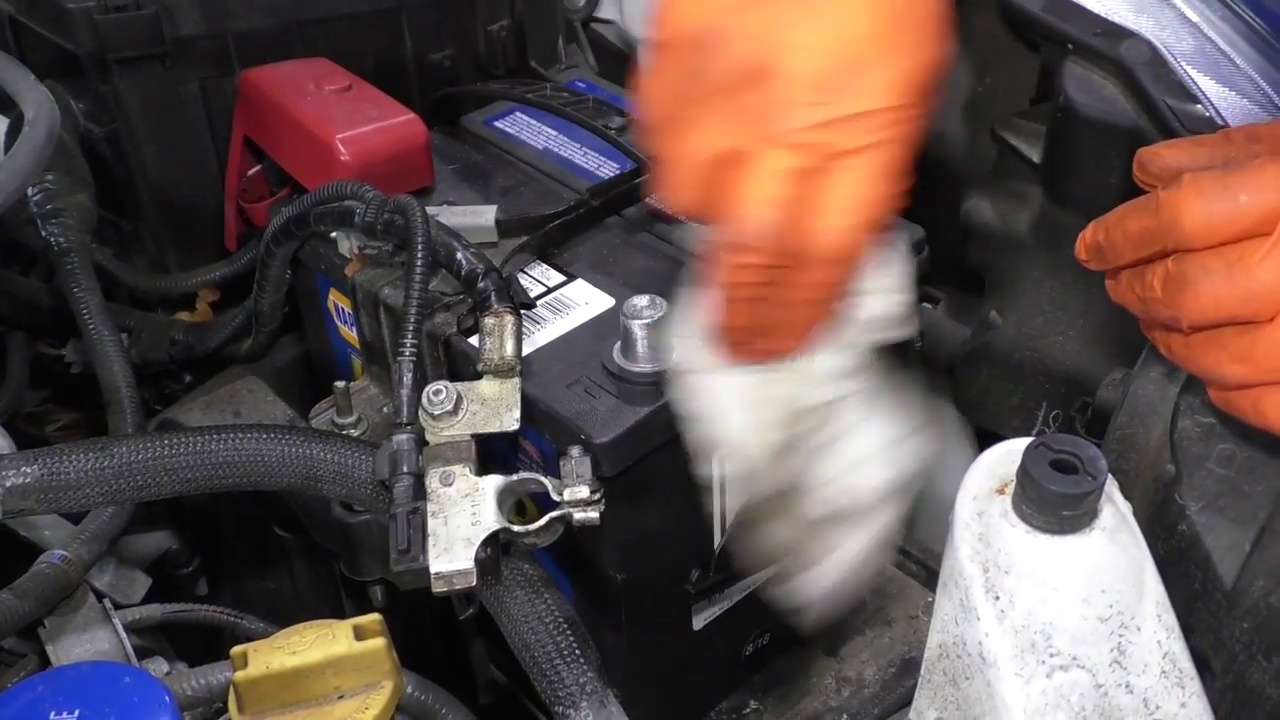battery: (277, 51, 929, 438)
neg_disconnected: (566, 252, 743, 413)
neg_touched: (595, 217, 833, 421)
pos_connected: (200, 53, 438, 251)
